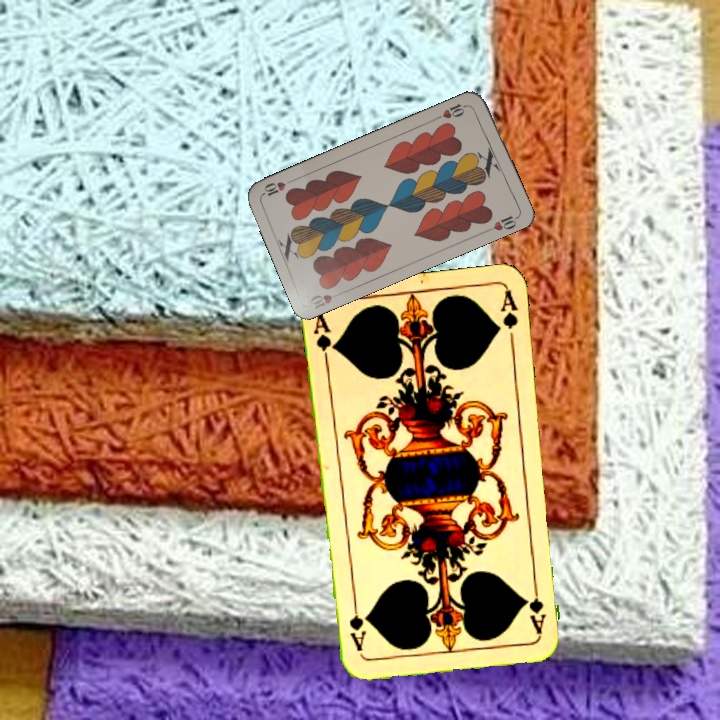GA: (309, 309, 339, 368), (526, 577, 549, 636)
H10: (306, 287, 346, 311), (433, 99, 472, 122)
